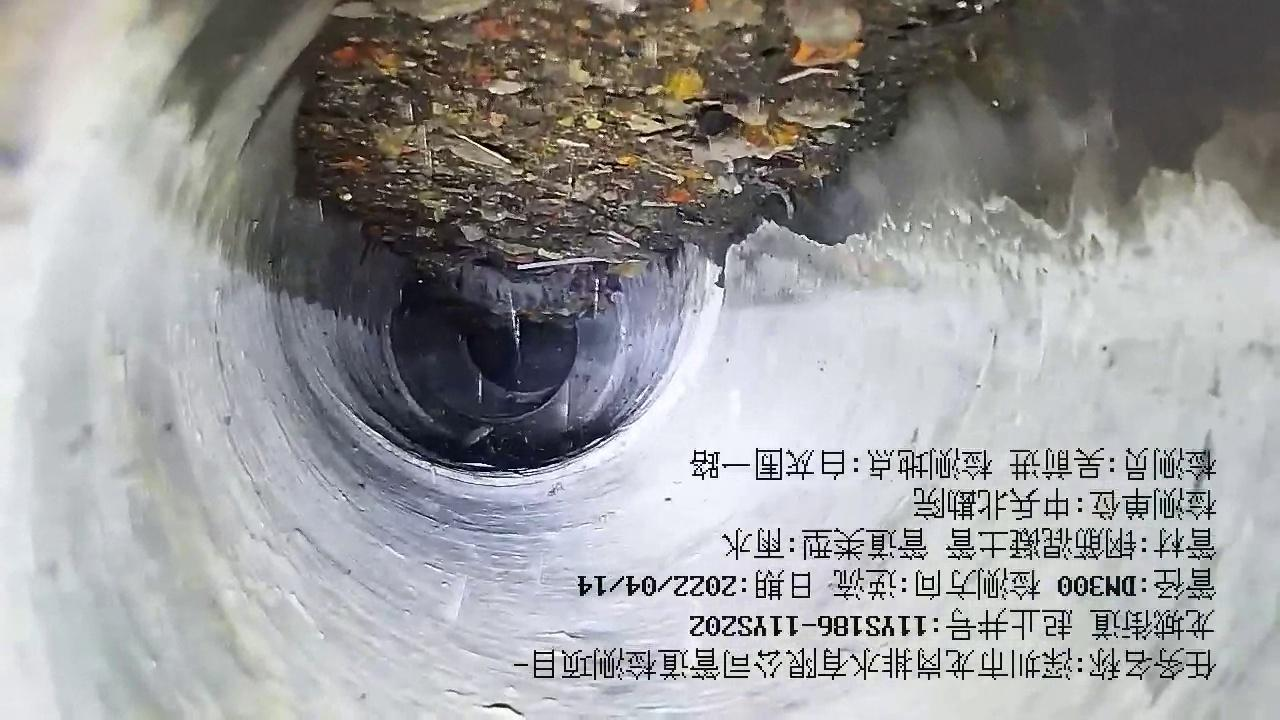CJ: (297, 1, 999, 325)
CKTJ: (311, 228, 732, 491)
